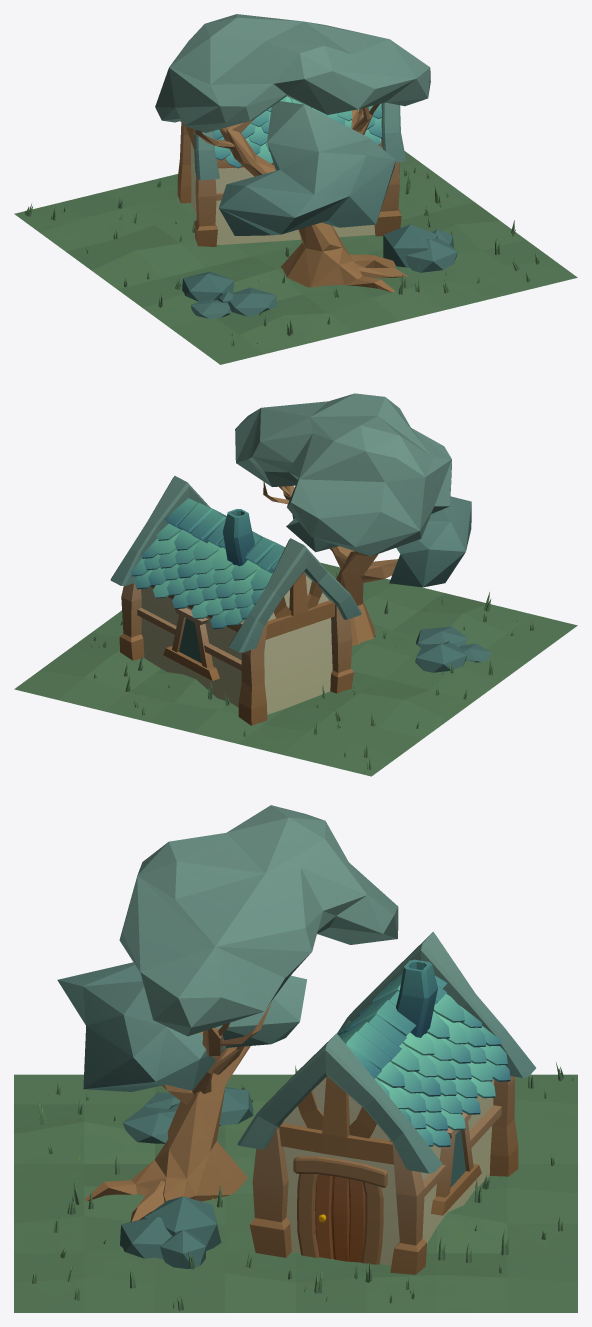
The model's file is house_dry.glb.
3 views of the same model, one above another, from view 1: azimuth 30°, elevation 25°; view 2: azimuth 150°, elevation 25°; view 3: azimuth 270°, elevation 25° (orthographic). The views are drawn at different scales.
Visible parts, largest first — view 1: Arbol1.002, Plane.000, Icosphere.002, Icosphere.001, Cube.000, Circle.004, Circle.003, Cube.024, Cube.001, Cube.002, Cube.010; view 2: Plane.000, Arbol1.002, Circle.003, Cube.000, Cube.002, Cube.025, Cube.006, Icosphere.002, Cube.001, Cube.004, Cube.010, Cube.009 (+1 smaller); view 3: Plane.000, Arbol1.002, Circle.003, Cube.001, Cube.000, Cube.008, Cube.020, Cube.002, Cube.024, Cube.006, Icosphere.001, Cube.025 (+8 smaller).
Boxes of the visible parts, x1,y1,x2,y2 form: Arbol1.002: [155, 14, 430, 292]; Plane.000: [14, 151, 577, 364]; Icosphere.002: [182, 271, 276, 318]; Icosphere.001: [383, 224, 457, 272]; Cube.000: [191, 139, 381, 244]; Circle.004: [214, 96, 382, 168]; Circle.003: [194, 174, 217, 246]; Cube.024: [374, 146, 401, 236]; Cube.001: [381, 102, 406, 162]; Cube.002: [180, 121, 219, 180]; Cube.010: [177, 121, 191, 203]; Plane.000: [14, 562, 577, 776]; Arbol1.002: [235, 393, 471, 645]; Circle.003: [131, 523, 353, 693]; Cube.000: [141, 576, 332, 714]; Cube.002: [228, 538, 361, 652]; Cube.025: [137, 608, 241, 680]; Cube.006: [165, 498, 284, 573]; Icosphere.002: [415, 626, 491, 672]; Cube.001: [110, 476, 210, 585]; Cube.004: [265, 572, 334, 639]; Cube.010: [238, 621, 267, 725]; Cube.009: [119, 583, 144, 660]; Plane.000: [14, 1074, 577, 1312]; Arbol1.002: [57, 805, 398, 1221]; Circle.003: [374, 993, 510, 1147]; Cube.001: [237, 1033, 442, 1173]; Cube.000: [282, 1077, 494, 1265]; Cube.008: [279, 1076, 393, 1164]; Cube.020: [293, 1156, 387, 1264]; Cube.002: [337, 931, 535, 1077]; Cube.024: [249, 1127, 291, 1257]; Cube.006: [339, 974, 447, 1078]; Icosphere.001: [120, 1196, 221, 1258]; Cube.025: [423, 1105, 501, 1215].
Size of the model in its own units: 10 by 6.7 by 10.
4 materials, 4 textured.
